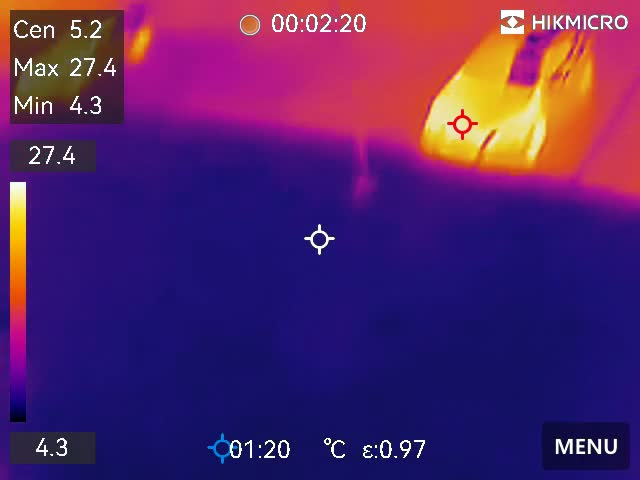smallCar: (412, 2, 589, 190)
